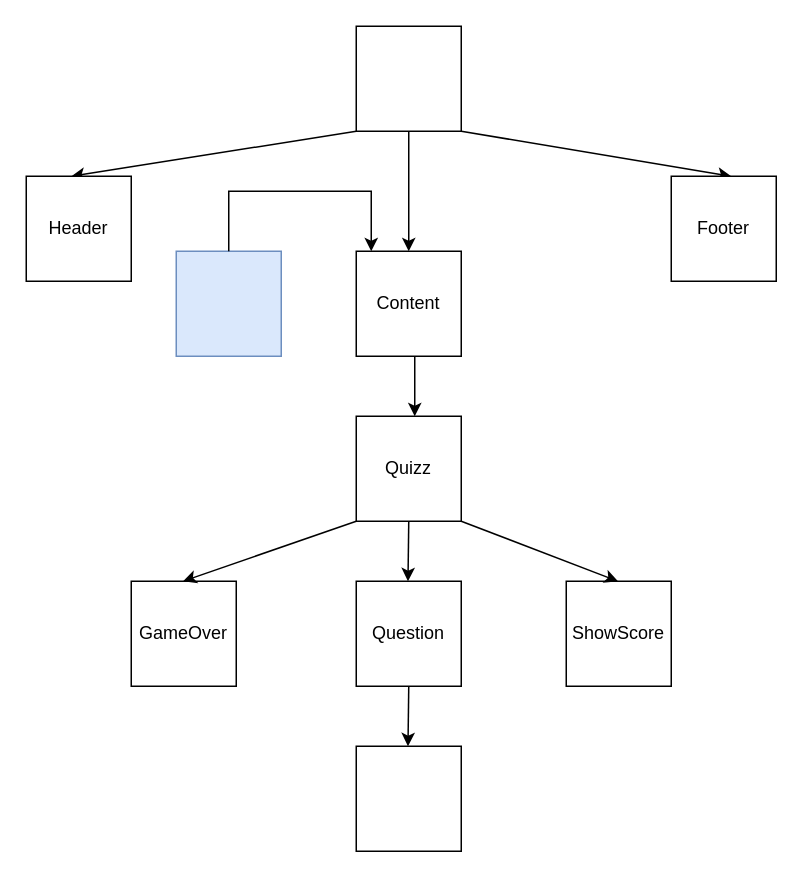
Some shapes in this 803 by 878 pixel diagram are drawn without their labels. Here are the shapes that lost their labels. From the top down, the centre of each, then its label:
At (x=408, y=78): "App".
At (x=228, y=303): "data".
At (x=408, y=798): "Response".
